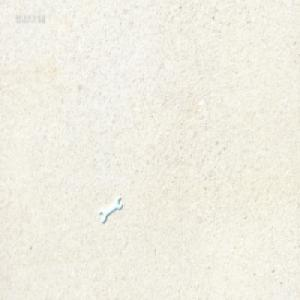Wrench: (99, 193, 122, 221)
